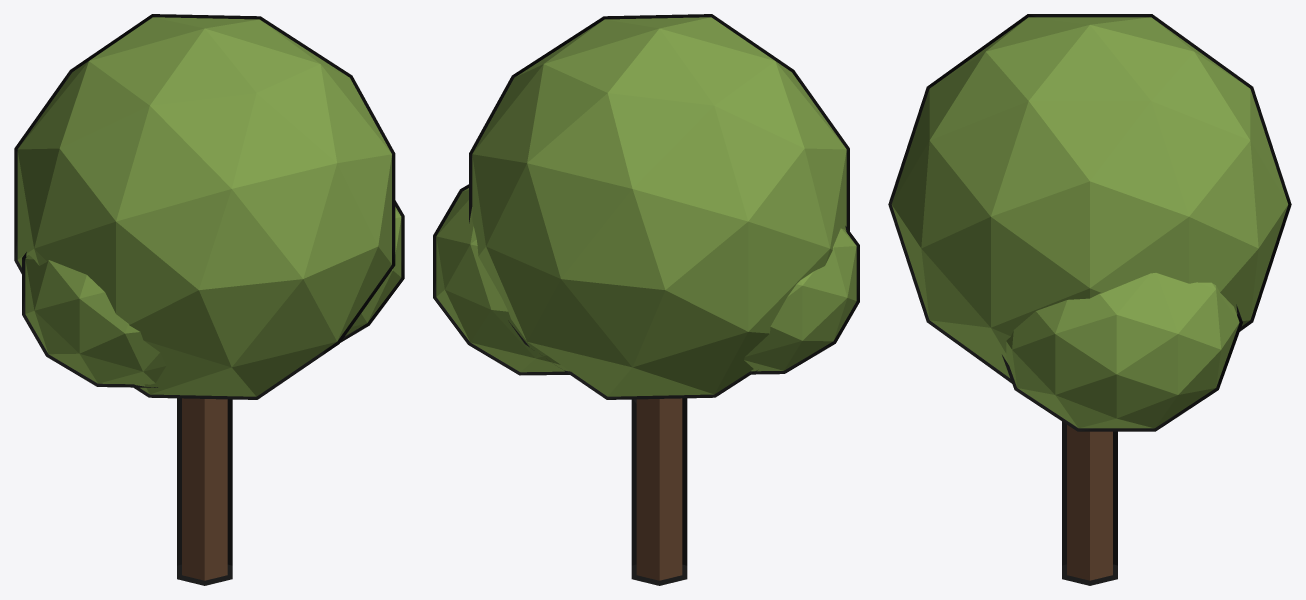
The model's file is Agac_yuvarlak_1.fbx.
The picture shows the model from 3 angles, left to right: view 1: azimuth 30°, elevation 25°; view 2: azimuth 150°, elevation 25°; view 3: azimuth 270°, elevation 25°; orthographic projection.
Visible parts, largest first — view 1: Agac_yuvarlak_1; view 2: Agac_yuvarlak_1; view 3: Agac_yuvarlak_1.
Boxes of the visible parts, x1,y1,x2,y2 form: Agac_yuvarlak_1: (14, 14, 404, 585); Agac_yuvarlak_1: (433, 14, 859, 585); Agac_yuvarlak_1: (888, 14, 1291, 585).
Size of the model in its own units: 2.51 by 3.42 by 2.27.
